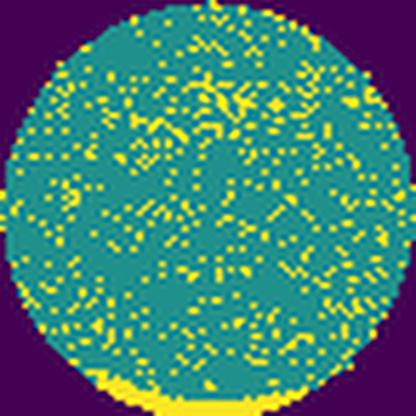Edge-Loc: (83, 365, 311, 416)
